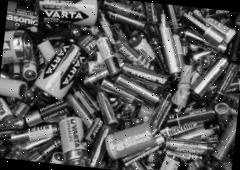electronic: (113, 54, 174, 111)
